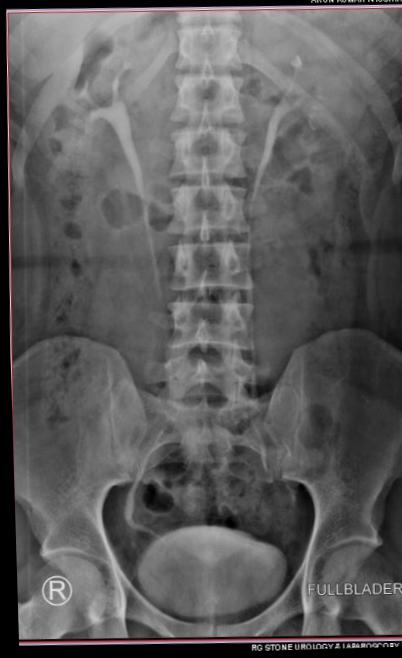bladder: (118, 522, 290, 631)
vertebrae: (160, 120, 253, 184)
